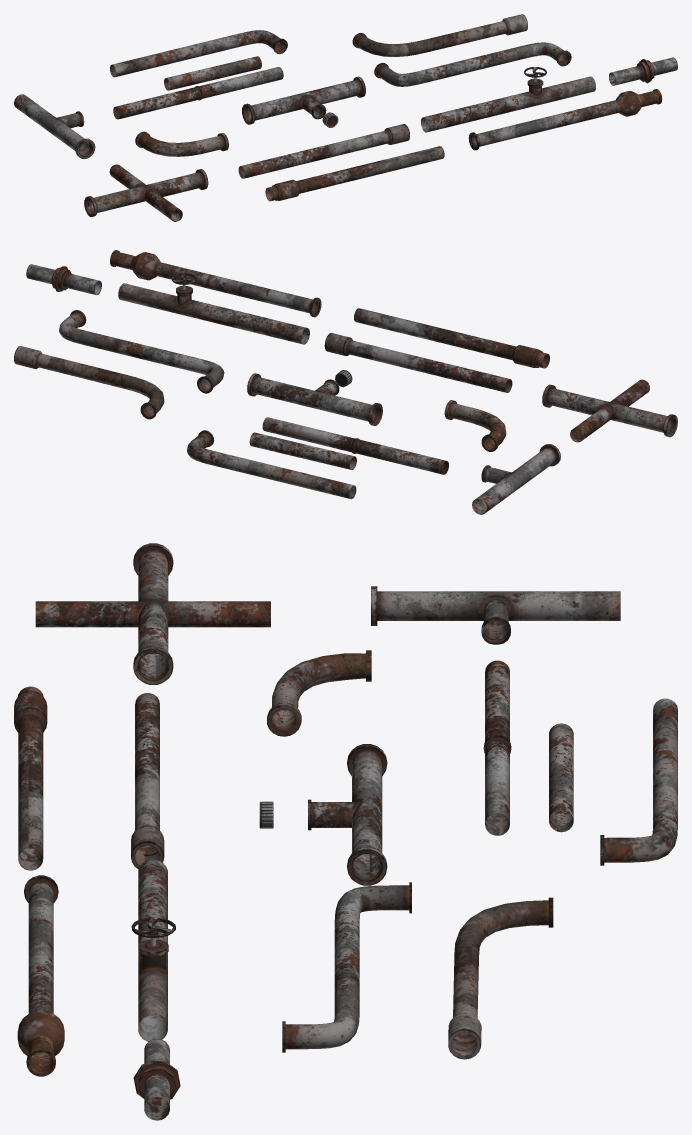
File: old_rusted_modular_pipes.glb
The picture shows the model from 3 angles, top to bottom: view 1: azimuth 30°, elevation 25°; view 2: azimuth 150°, elevation 25°; view 3: azimuth 270°, elevation 25°; orthographic projection. The views are drawn at different scales.
Parts seen in each view (by area): view 1: valve.001, Pipe.059, Pipe.066, Pipe.063, Pipe.067, Pipe.069, Pipe.061, Pipe.065, Pipe.064, Pipe.057, Pipe.060, Pipe.068 (+2 smaller); view 2: valve.001, Pipe.059, Pipe.066, Pipe.067, Pipe.063, Pipe.065, Pipe.061, Pipe.064, Pipe.057, Pipe.069, Pipe.060, Pipe.078 (+2 smaller); view 3: Pipe.059, Pipe.060, Pipe.063, Pipe.066, Pipe.057, Pipe.069, valve.001, Pipe.061, Pipe.067, Pipe.065, Pipe.064, Pipe.068 (+2 smaller).
Boxes of the visible parts, x1,y1,x2,y2 form: valve.001: [421, 67, 595, 132]; Pipe.059: [84, 164, 208, 221]; Pipe.066: [468, 89, 662, 150]; Pipe.063: [374, 42, 571, 86]; Pipe.067: [265, 146, 444, 201]; Pipe.069: [352, 14, 527, 56]; Pipe.061: [110, 30, 287, 77]; Pipe.065: [238, 124, 409, 178]; Pipe.064: [113, 67, 283, 119]; Pipe.057: [242, 76, 365, 124]; Pipe.060: [14, 94, 95, 159]; Pipe.068: [135, 131, 228, 156]; valve.001: [118, 273, 309, 344]; Pipe.059: [542, 379, 677, 442]; Pipe.066: [110, 250, 321, 317]; Pipe.067: [354, 308, 549, 368]; Pipe.063: [59, 310, 224, 393]; Pipe.065: [324, 333, 512, 392]; Pipe.061: [187, 430, 356, 499]; Pipe.064: [262, 417, 448, 474]; Pipe.057: [247, 373, 382, 425]; Pipe.069: [14, 346, 164, 419]; Pipe.060: [472, 444, 560, 514]; Pipe.078: [249, 432, 356, 469]; Pipe.059: [35, 543, 270, 684]; Pipe.060: [371, 586, 620, 644]; Pipe.063: [282, 882, 411, 1052]; Pipe.066: [17, 875, 64, 1076]; Pipe.057: [308, 744, 387, 885]; Pipe.069: [448, 897, 553, 1059]; valve.001: [131, 859, 175, 1041]; Pipe.061: [600, 698, 677, 865]; Pipe.067: [14, 686, 47, 870]; Pipe.065: [131, 693, 164, 869]; Pipe.064: [483, 660, 511, 835]; Pipe.068: [267, 650, 371, 736].
Bounding box in the file's own units: 17.13 × 1.06 × 8.8.
Materials: 2 (2 with a texture image).
